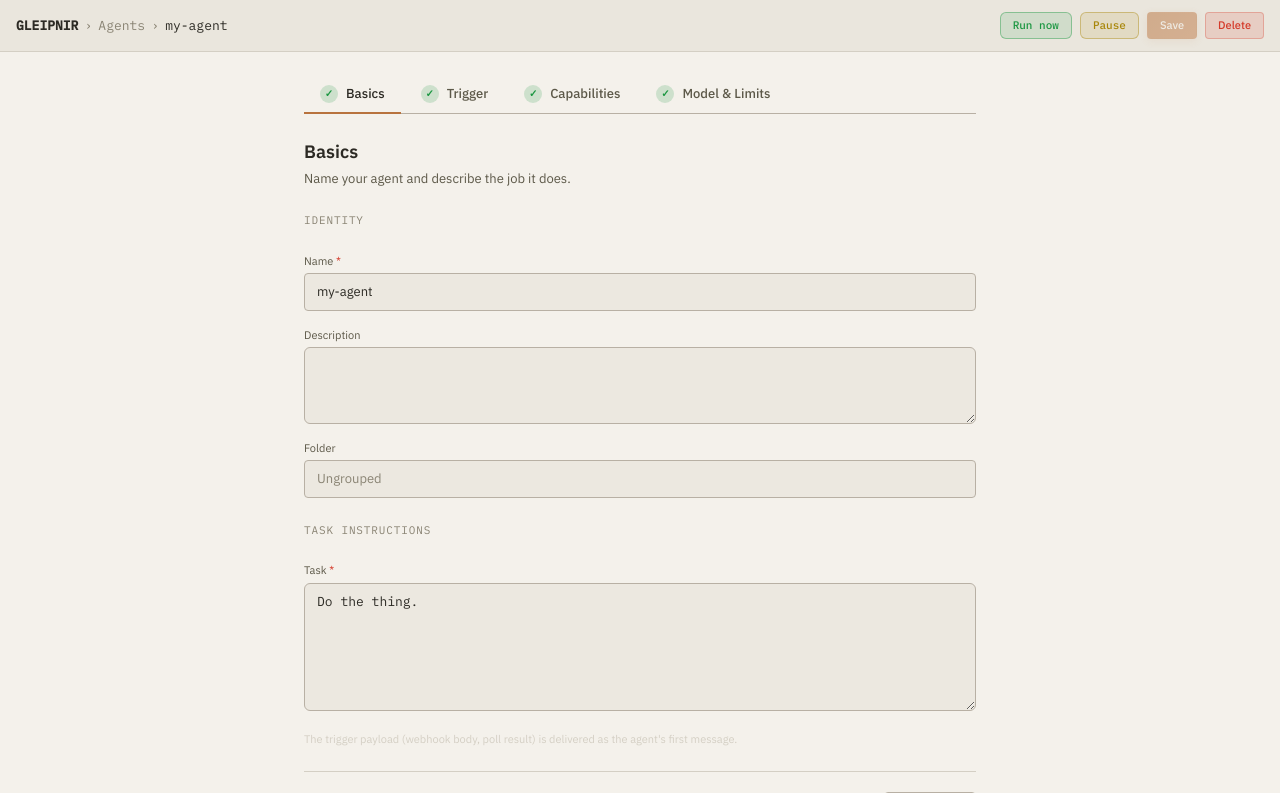
AgentEditorPage — dirty state and save › editing the name field sets isDirty; saving clears it
The width and height of the screenshot is (1280, 793).
Expected: the button "Save" is disabled, [1147,12,1197,39]
Type "-edited" into the field labelled "Name" at (640, 292), box [304,273,976,310]
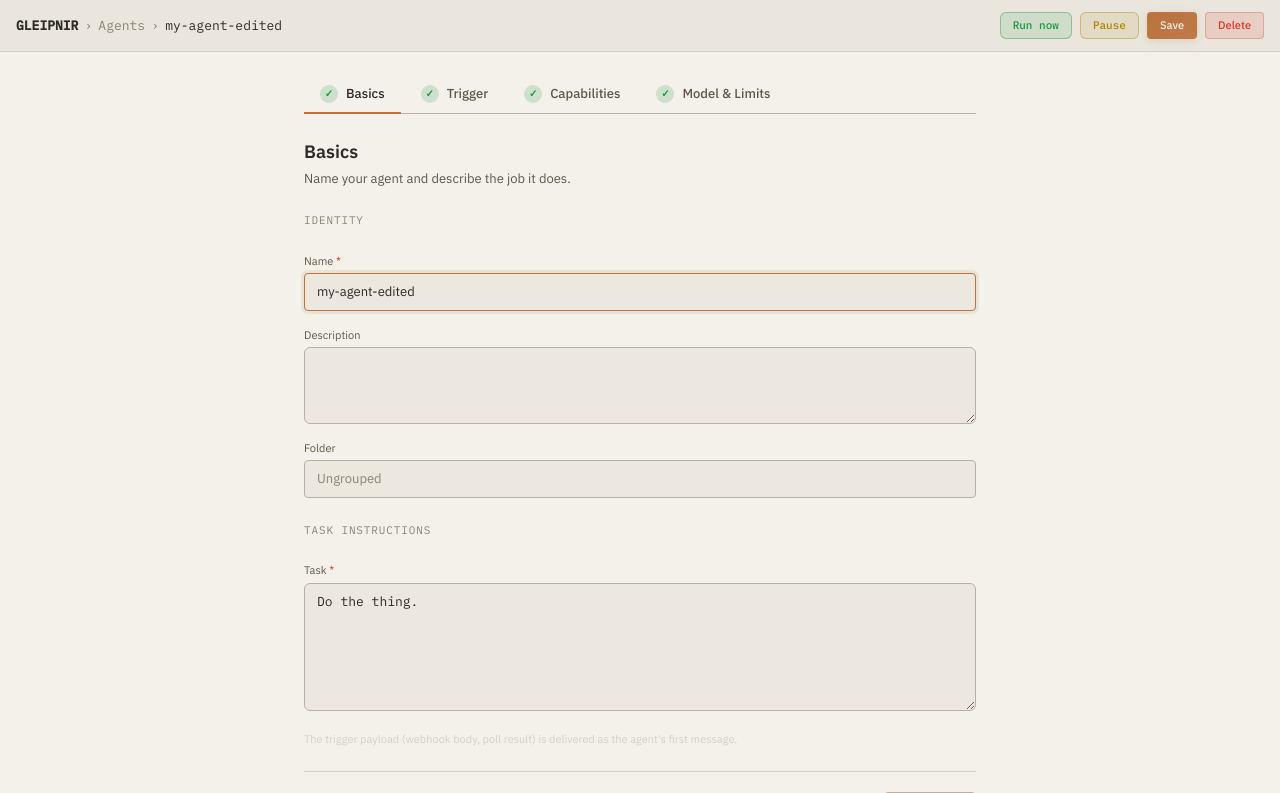
Now the button "Save" is enabled
Click save
Click the button "Save" at (1172, 26), box [1147,12,1197,39]
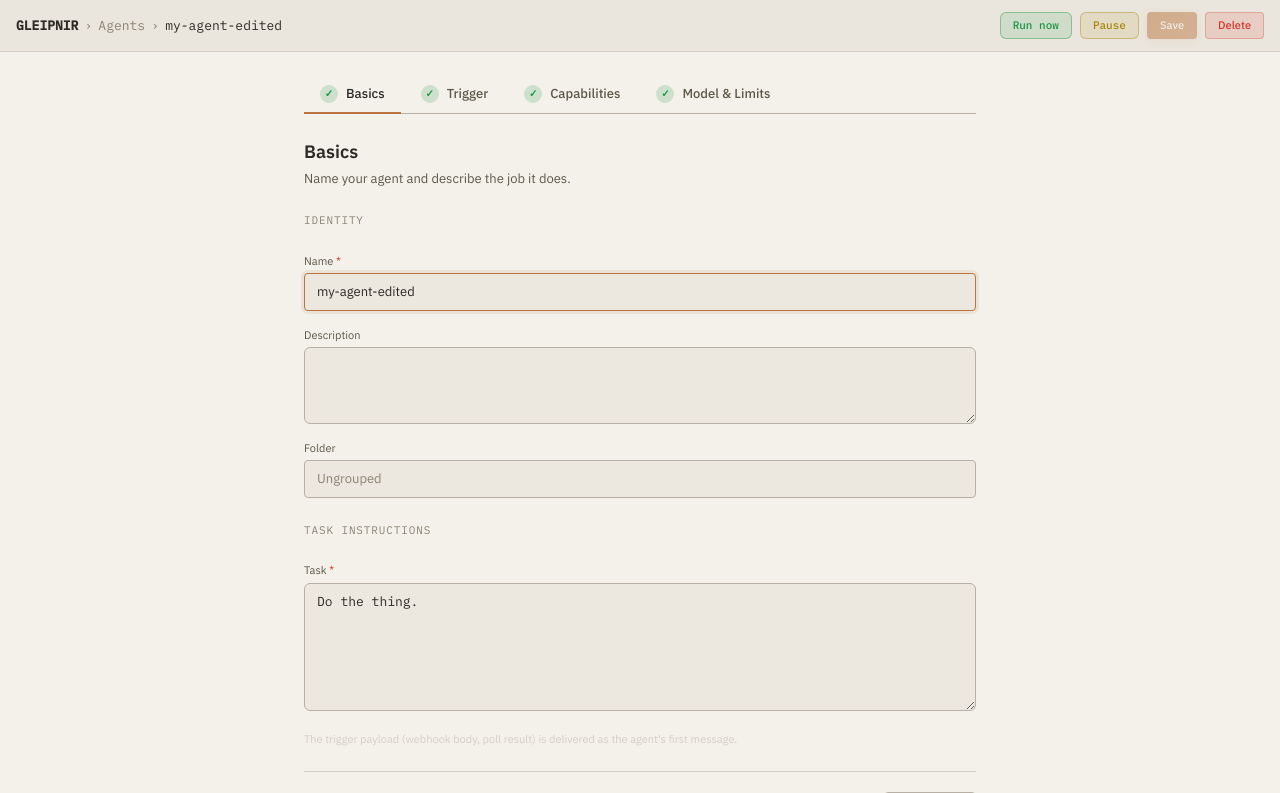
Now the button "Save" is disabled, box [1147,12,1197,39]
